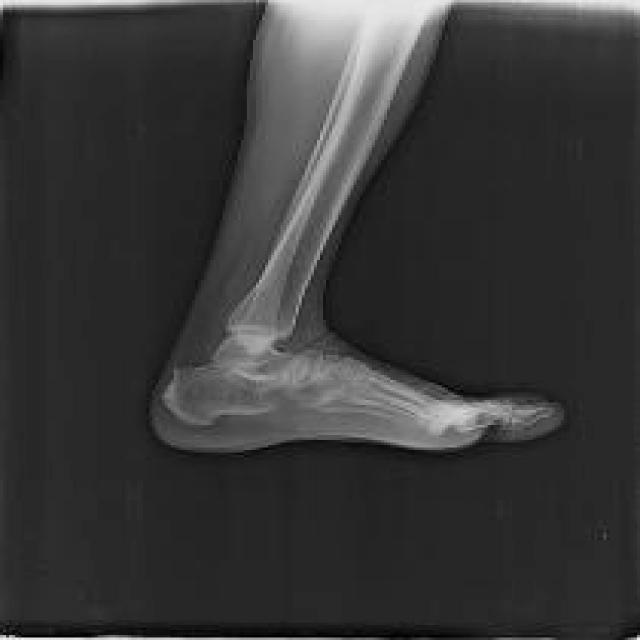normal: (168, 0, 565, 431)
